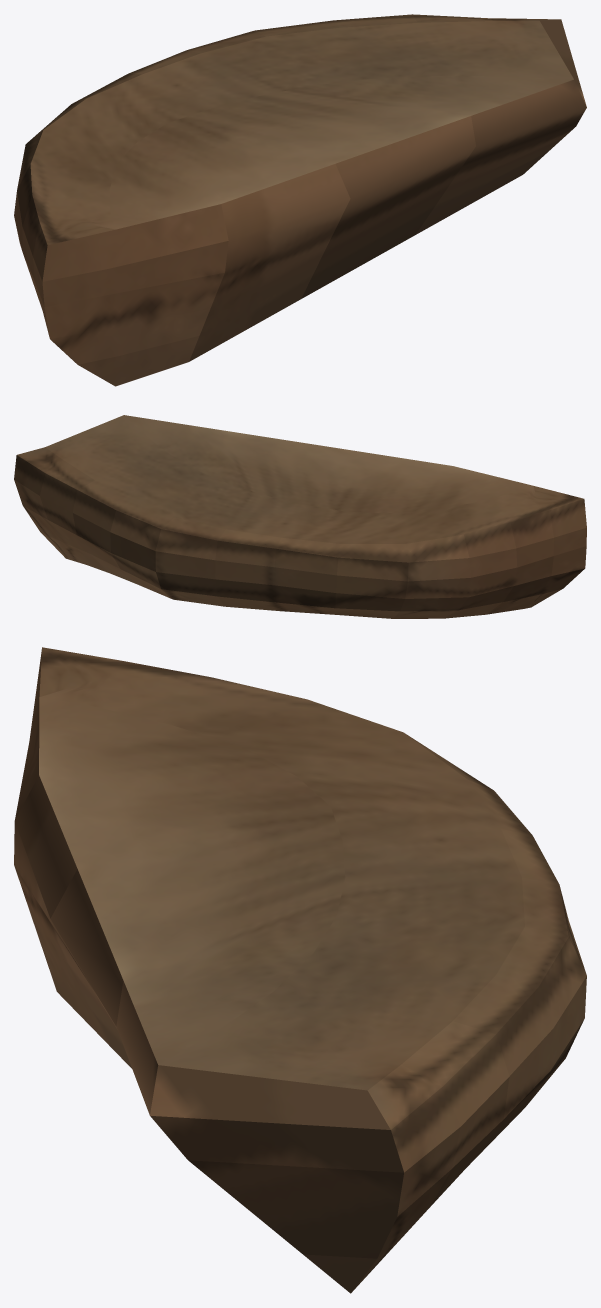
The model's file is TerrainCorniche.fbx.
3 renders of one model, top to bottom at view 1: azimuth 30°, elevation 25°; view 2: azimuth 150°, elevation 25°; view 3: azimuth 270°, elevation 25°, orthographic. The views are drawn at different scales.
Visible parts, largest first — view 1: Corniche; view 2: Corniche; view 3: Corniche.
Boxes of the visible parts, left/top/right/bottom form: Corniche: left=14, top=14, right=586, bottom=386; Corniche: left=14, top=415, right=586, bottom=618; Corniche: left=14, top=647, right=586, bottom=1293.
Bounding box in the file's own units: 1192 × 285 × 617.
